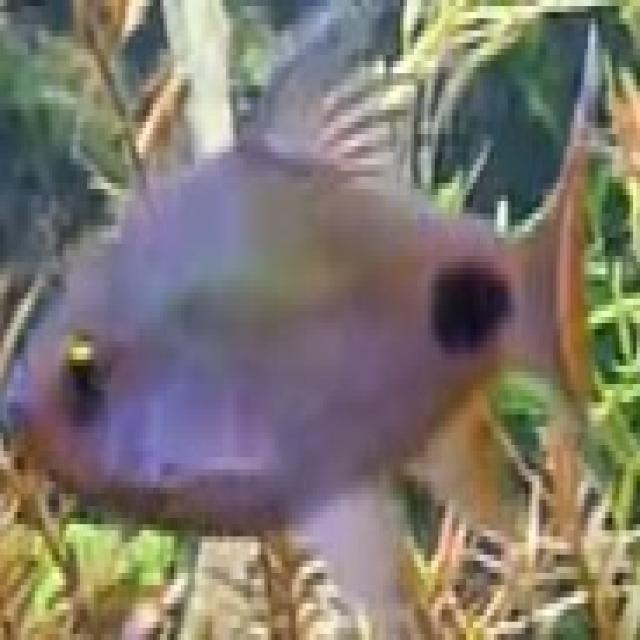Black-Spotted-Barb: (0, 43, 619, 585)
